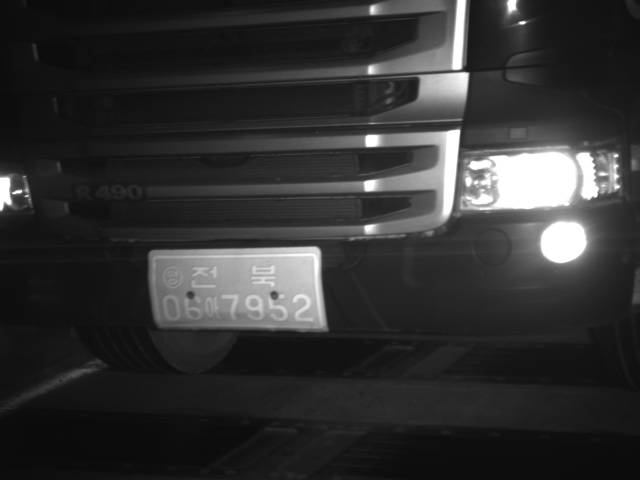car: (1, 1, 638, 376)
plate: (145, 246, 331, 333)
